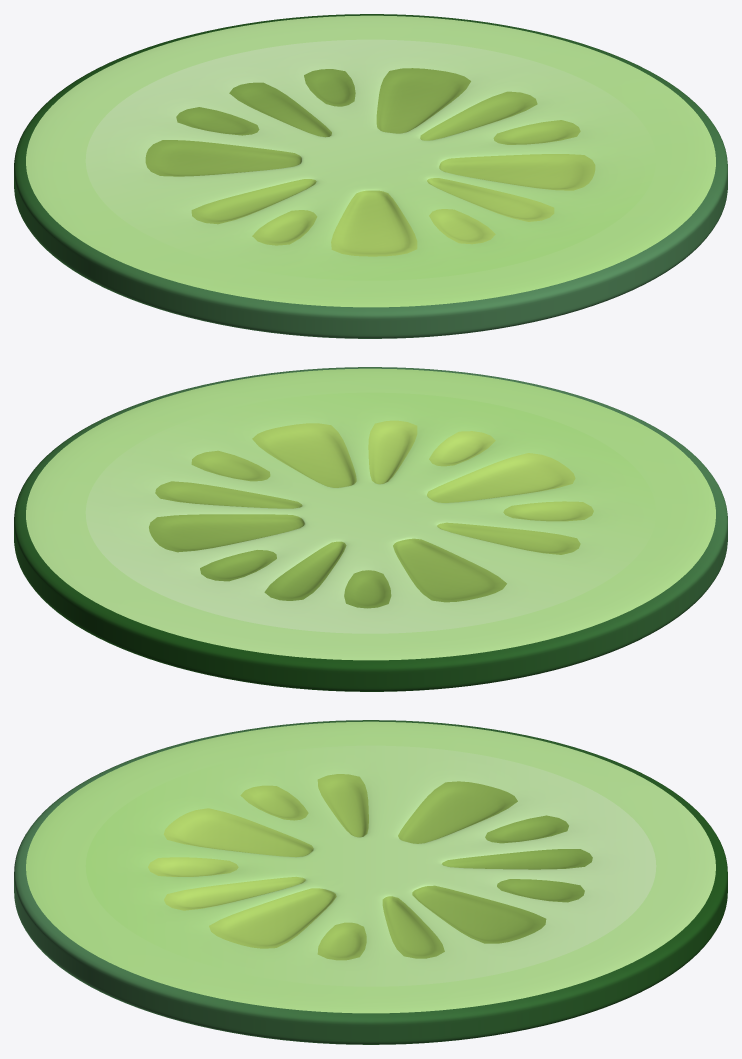
File: Cucumber.fbx
3 renders of one model, top to bottom at view 1: azimuth 30°, elevation 25°; view 2: azimuth 150°, elevation 25°; view 3: azimuth 270°, elevation 25°, orthographic.
Parts seen in each view (by area): view 1: Cylinder; view 2: Cylinder; view 3: Cylinder.
Boxes of the visible parts, x1,y1,x2,y2 form: Cylinder: [14, 14, 727, 338]; Cylinder: [14, 367, 727, 691]; Cylinder: [14, 720, 727, 1044].
Size of the model in its own units: 199 by 10 by 199.
Materials: 1 (1 with a texture image).
